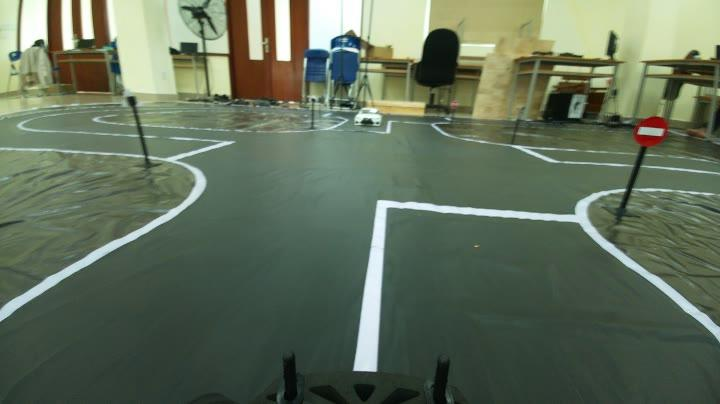no_entry: (632, 108, 670, 150)
